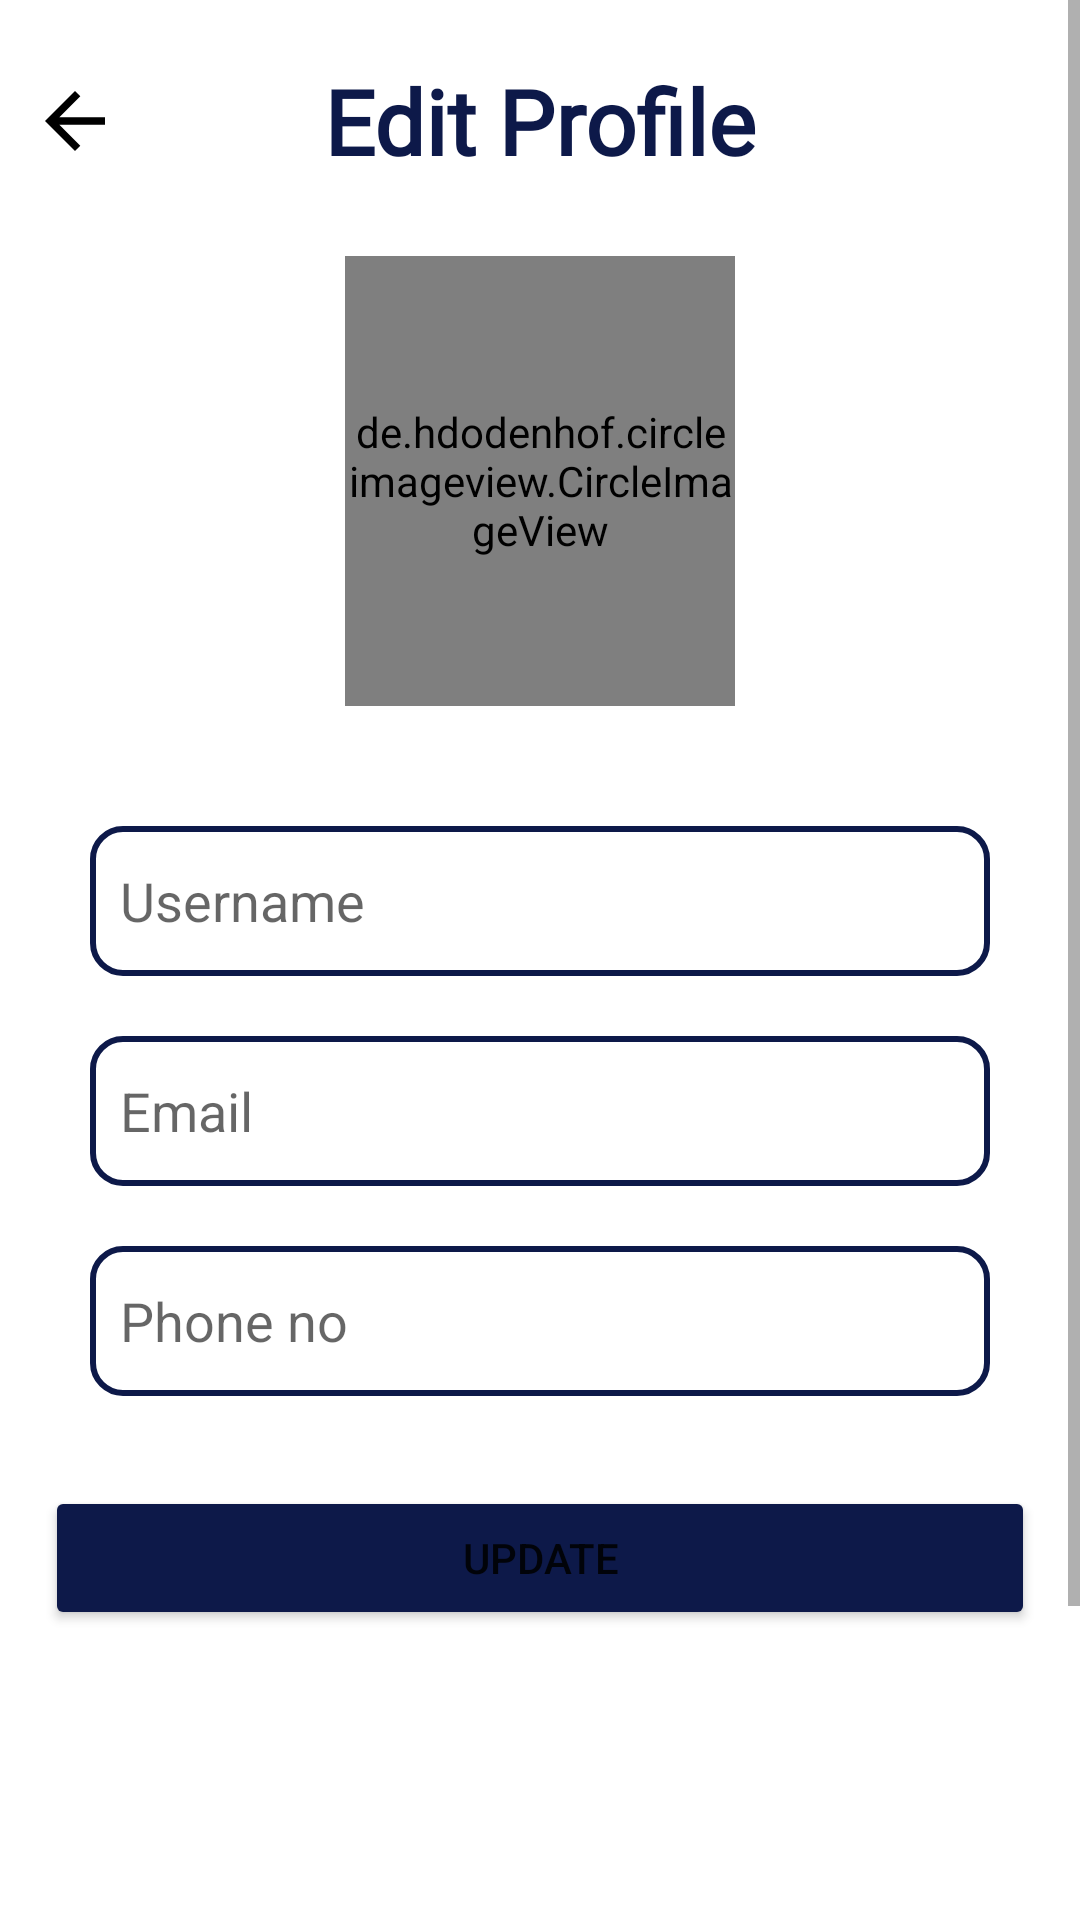

Named icons in this screenshot (1080px×1920px) and their bounding boxes, [left=x1, top=y1, right=x2, bottom=y2]:
arrow back: [left=45, top=91, right=105, bottom=151]
